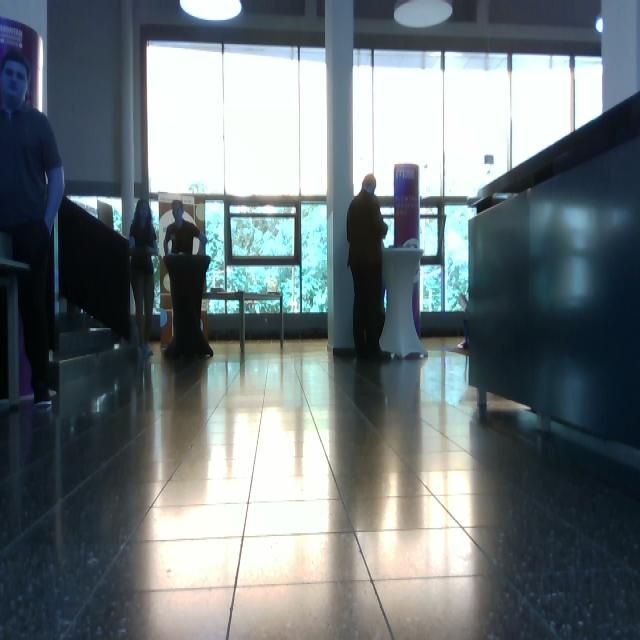light bulb: (394, 1, 453, 29), (180, 1, 242, 22), (595, 16, 604, 33), (484, 154, 494, 165)
person: (1, 49, 65, 408), (347, 174, 392, 361), (163, 200, 214, 358), (129, 200, 160, 358)
pillar: (325, 1, 356, 356)
tiled floor: (2, 336, 639, 638)
window: (146, 38, 329, 317)
